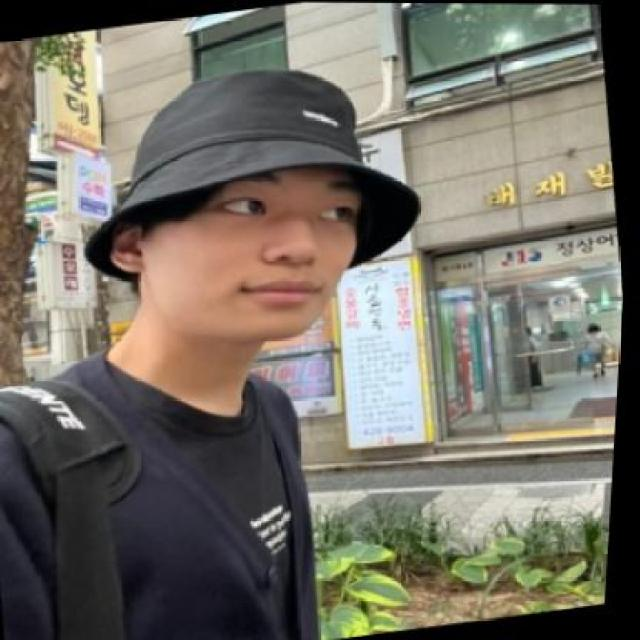hat: (59, 46, 432, 294)
